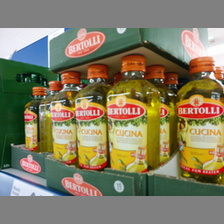oil: (106, 54, 162, 174), (175, 56, 224, 180), (74, 63, 112, 170), (49, 71, 79, 163)
